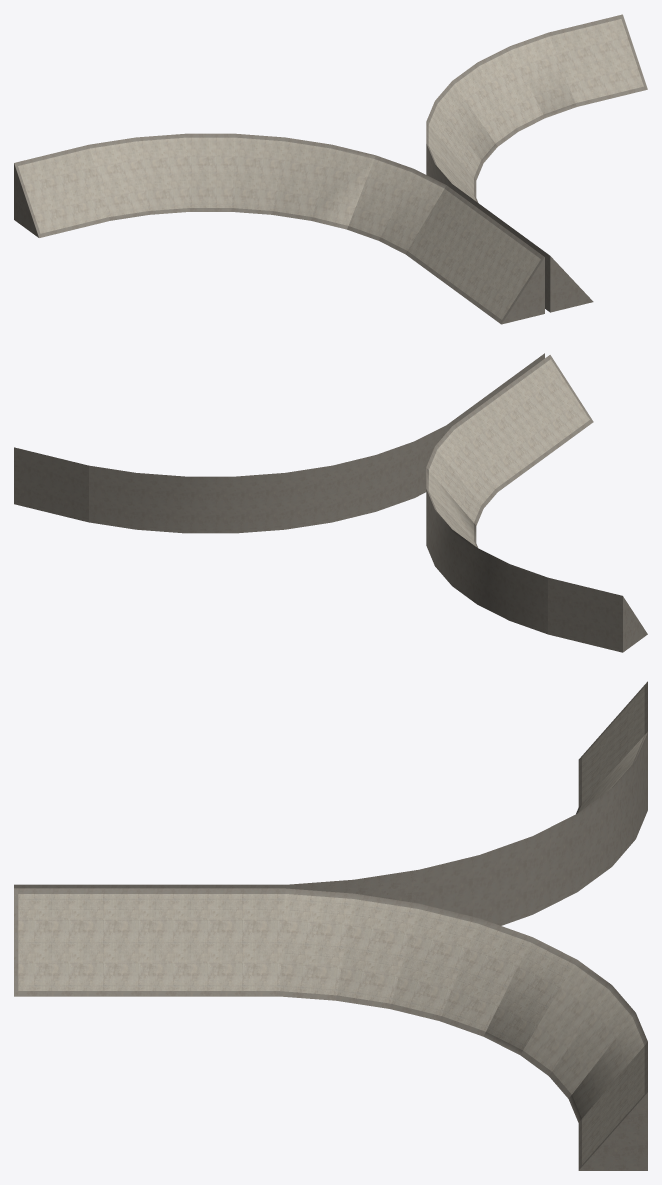
The model's file is sep-split-ramp.glb.
3 views of the same model, one above another, from view 1: azimuth 30°, elevation 25°; view 2: azimuth 150°, elevation 25°; view 3: azimuth 270°, elevation 25° (orthographic). The views are drawn at different scales.
Visible parts, largest first — view 1: ramp5.mdl/ramp5_ref; view 2: ramp5.mdl/ramp5_ref; view 3: ramp5.mdl/ramp5_ref.
Boxes of the visible parts, bbox=[...] form: ramp5.mdl/ramp5_ref: bbox=[14, 14, 647, 324]; ramp5.mdl/ramp5_ref: bbox=[14, 353, 647, 652]; ramp5.mdl/ramp5_ref: bbox=[14, 681, 647, 1170].
Bounding box in the file's own units: 71.68 × 6.4 × 46.72.
2 materials, 2 textured.
